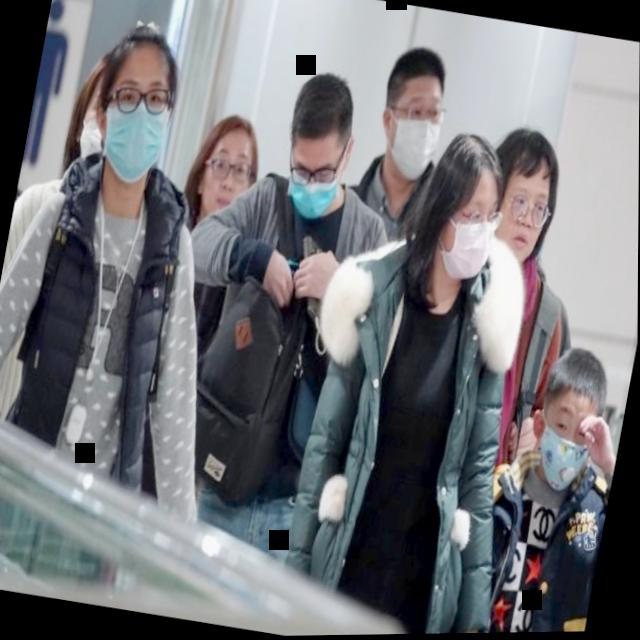Mask: (409, 126, 516, 299), (84, 16, 192, 185), (269, 65, 367, 227), (525, 345, 619, 499), (368, 42, 455, 188), (63, 47, 124, 167)
NO-Mask: (476, 120, 564, 264), (183, 108, 264, 227)
